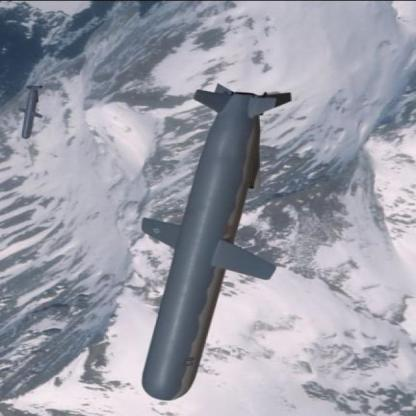MIL_TBM: (138, 91, 262, 408)
